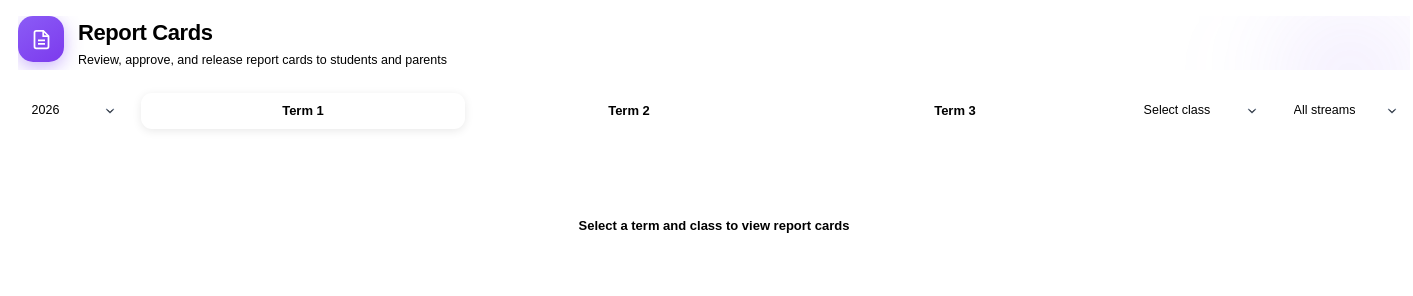
Scenario: PrincipalReportCardsPage › shows "Awaiting Approval" tab after class is selected
Step 1. Select "S.1" in the 2nd dropdown → (1200, 111), box 1130,93 -> 1270,129
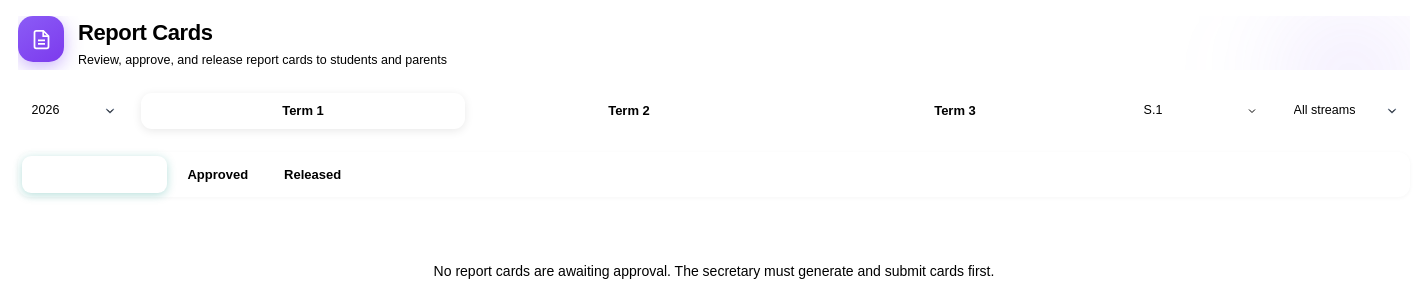
Check: the button "Awaiting Approval" is shown, box 22,156 -> 167,193
Check: the button "Approved" is shown, box 171,156 -> 264,193
Check: the button "Released" is shown, box 268,156 -> 357,193
